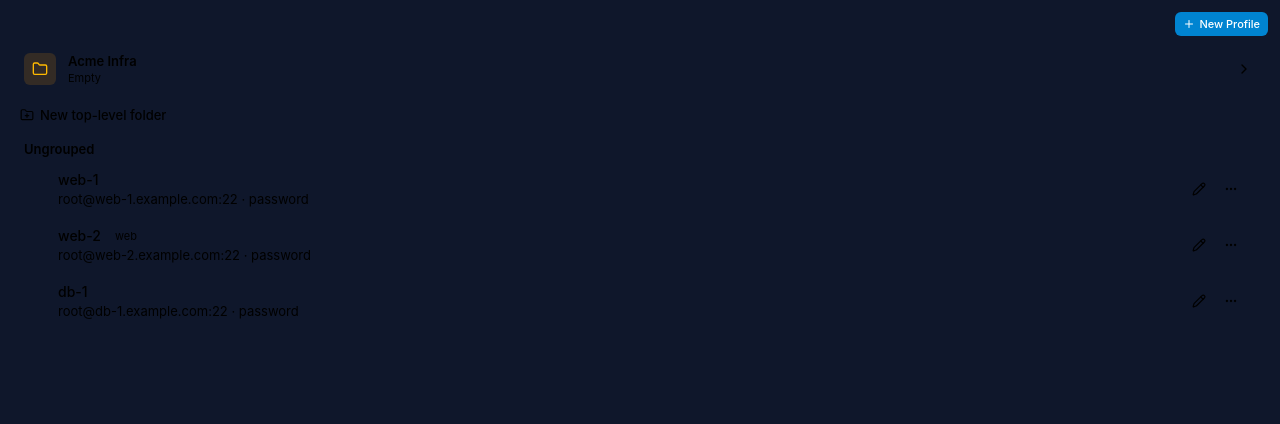
Test: TeamProfileTreeList multi-select › moves the selected profiles into a folder through the vault, without the reference the list adds, then reloads
Click the 1st checkbox labelled "web-1 root@web-1.example.com:22 · password" at x=78, y=180, box [24,164,1256,214]
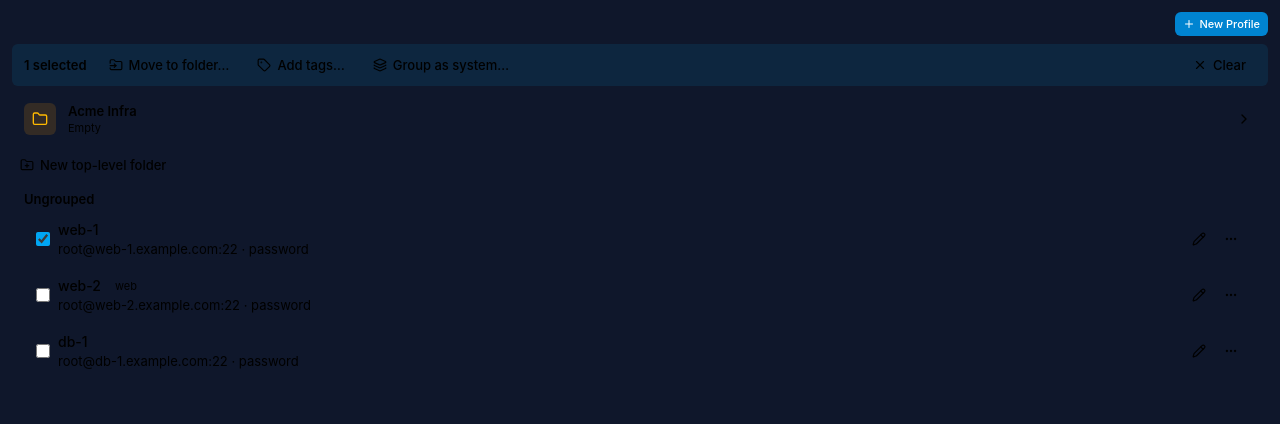
Click the checkbox named "Select web-2" at x=43, y=295, box [36,288,50,302]
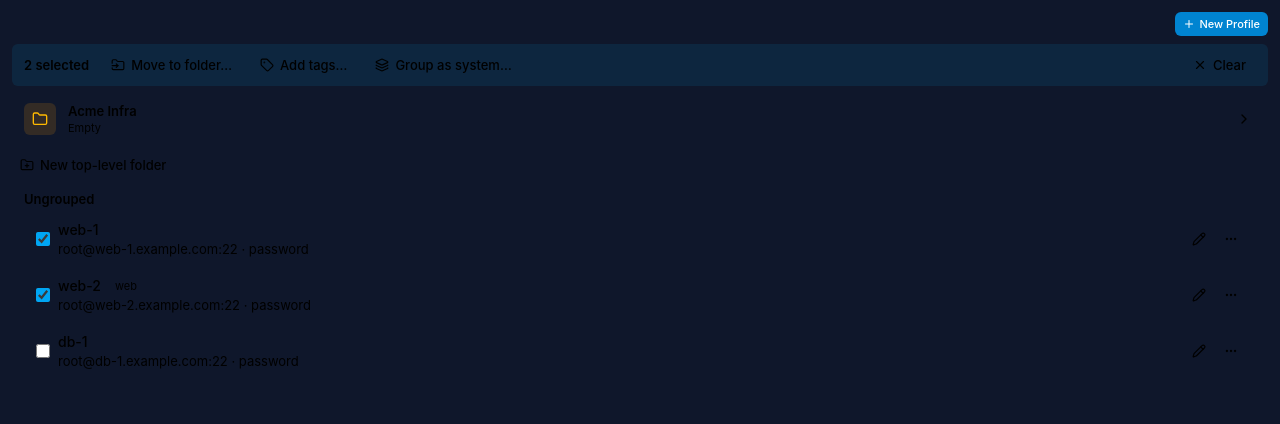
Click the button "Move to folder…" at x=172, y=65, box [101,52,242,78]
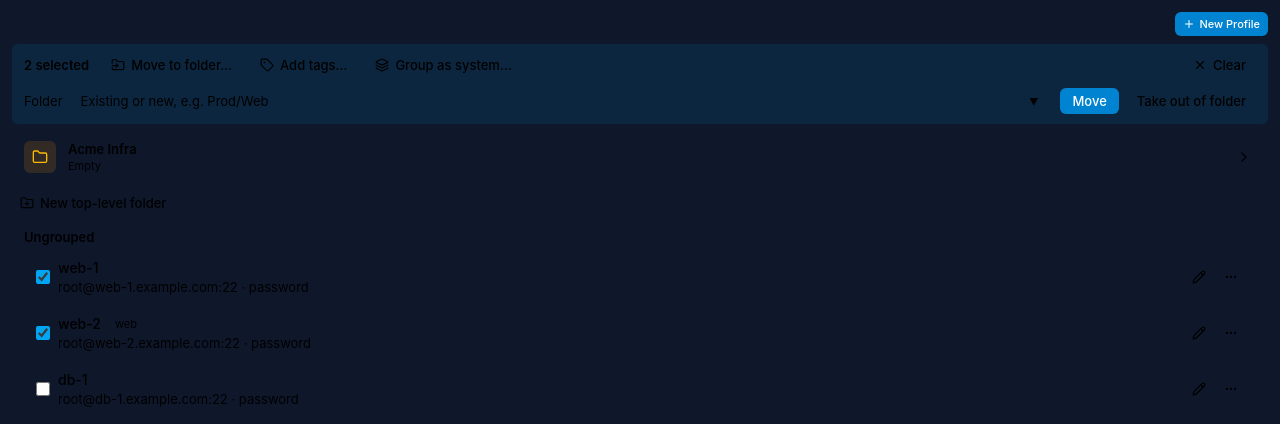
Type "Acme Infra/Cluster A" into the field labelled "Folder" at x=561, y=101, box [70,86,1052,116]
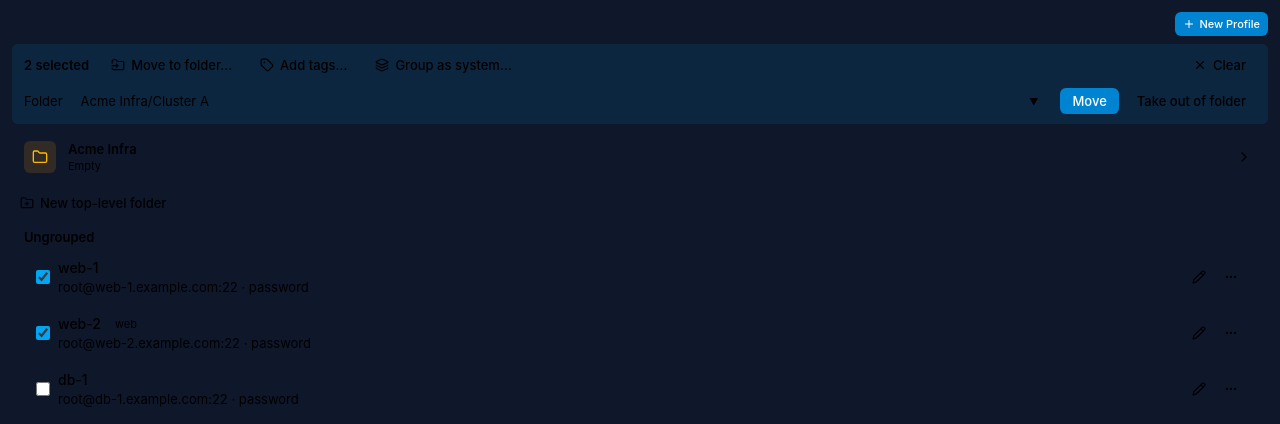
Click the button "Move" at x=1090, y=101, box [1060,88,1119,114]
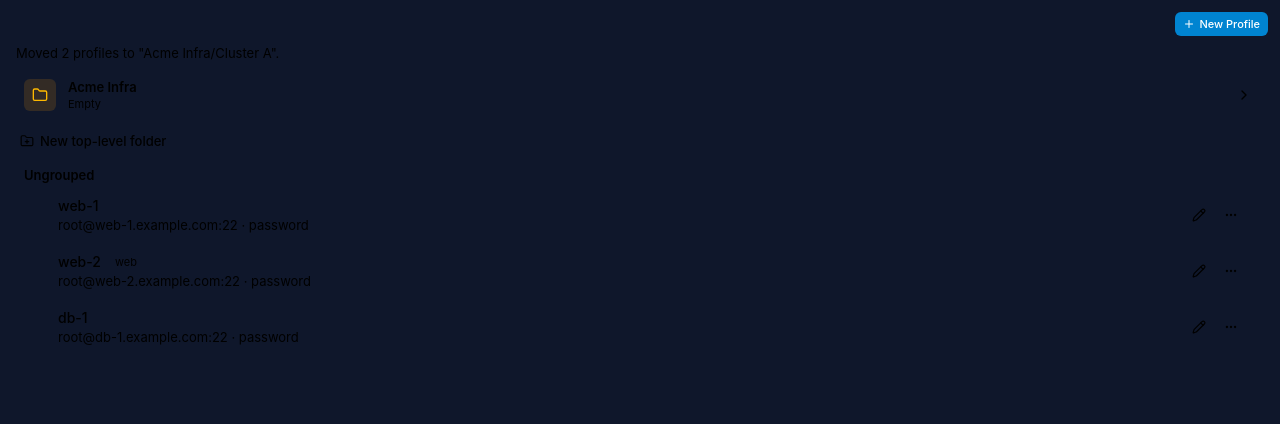
Check: the text "Moved 2 profiles to \"Acme Infra/Cluster A\"." is shown, box [16,45,279,61]
